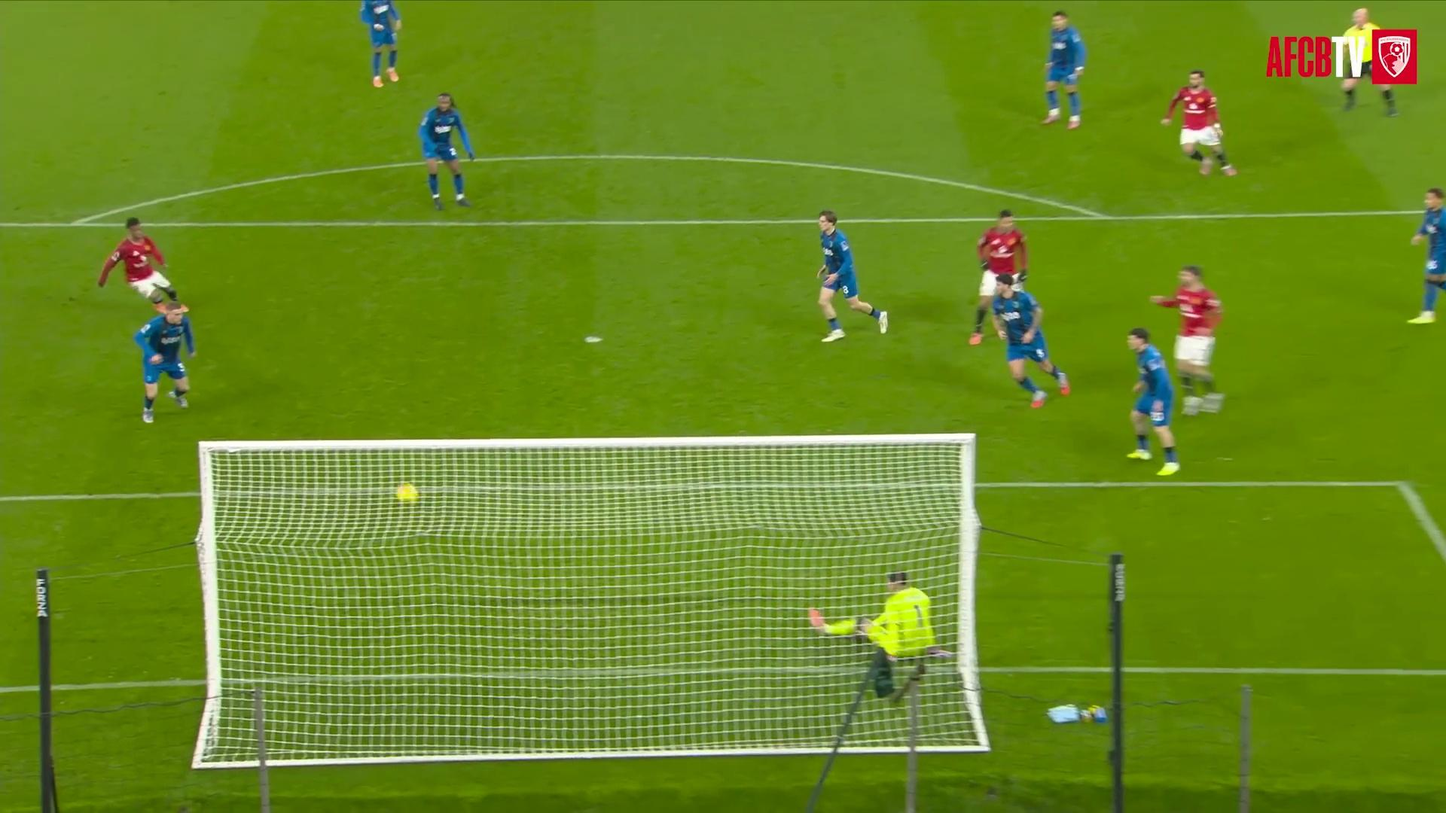football: (388, 476, 426, 512)
player: (808, 571, 949, 700), (1150, 265, 1224, 415), (992, 274, 1069, 407), (817, 212, 888, 342), (1161, 70, 1236, 175), (969, 209, 1027, 344), (1127, 328, 1179, 475), (98, 217, 177, 310), (134, 302, 194, 422), (419, 93, 474, 209), (1408, 187, 1445, 323), (1043, 11, 1085, 129), (360, 0, 401, 87)
referee: (1342, 8, 1379, 110)
